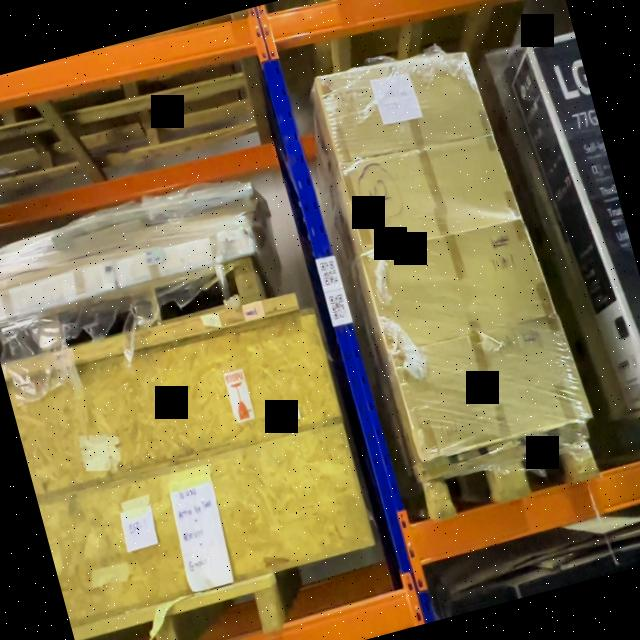box: (392, 315, 586, 460), (361, 220, 548, 354), (340, 134, 513, 250), (318, 51, 487, 164)
